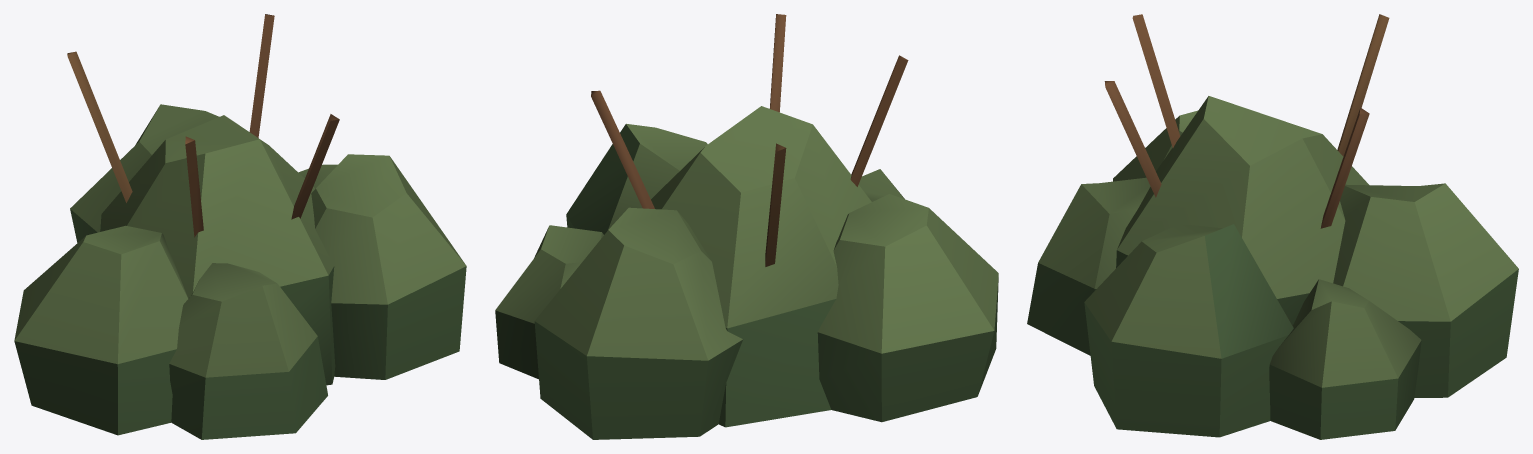
The model's file is buisson.glb.
3 views of the same model, side by side, from view 1: azimuth 30°, elevation 25°; view 2: azimuth 150°, elevation 25°; view 3: azimuth 270°, elevation 25° (orthographic). The views are drawn at different scales.
Visible parts, largest first — view 1: buisson; view 2: buisson; view 3: buisson.
Boxes of the visible parts, x1,y1,x2,y2 form: buisson: [14, 14, 466, 439]; buisson: [495, 14, 998, 439]; buisson: [1027, 14, 1518, 439].
Size of the model in its own units: 0.3725 by 0.2319 by 0.3663.
